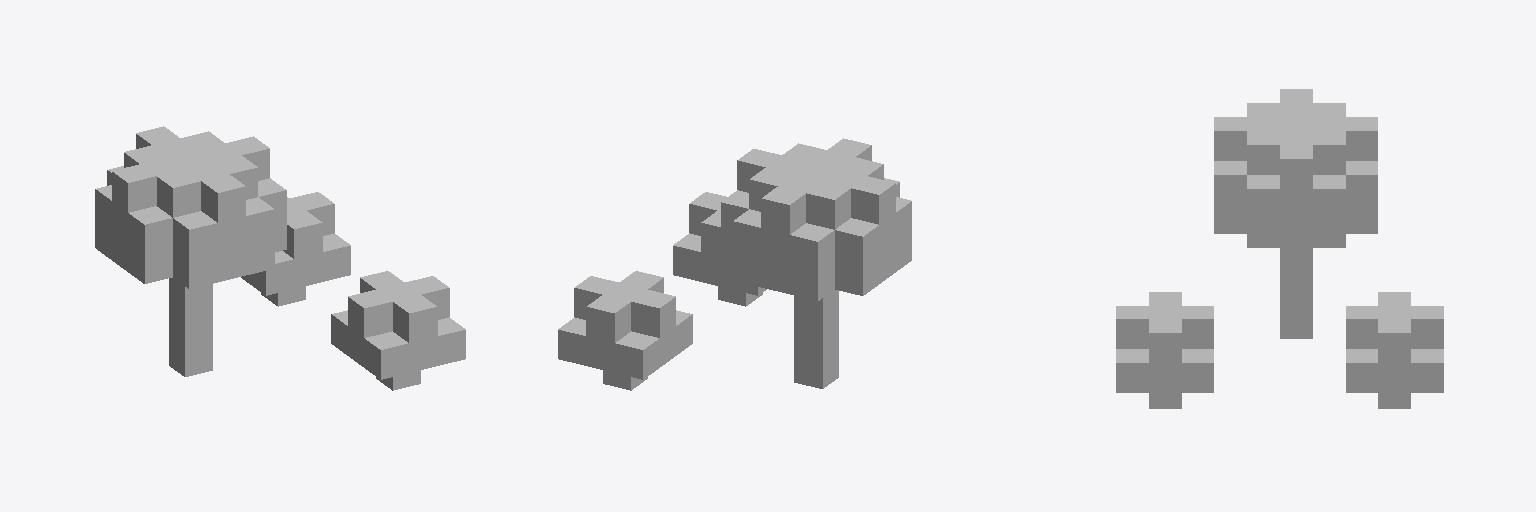
The model's file is Mushroom1.obj.
3 views of the same model, side by side, from view 1: azimuth 30°, elevation 25°; view 2: azimuth 150°, elevation 25°; view 3: azimuth 270°, elevation 25° (orthographic).
Visible parts, largest first — view 1: Rat_and_Mushrooms; view 2: Rat_and_Mushrooms; view 3: Rat_and_Mushrooms.
Part boxes in pixels (x1,y1,x2,y2): Rat_and_Mushrooms: (95,126,465,390); Rat_and_Mushrooms: (558,138,911,390); Rat_and_Mushrooms: (1116,89,1443,408).
Size of the model in its own units: 0.9 by 0.7 by 1.